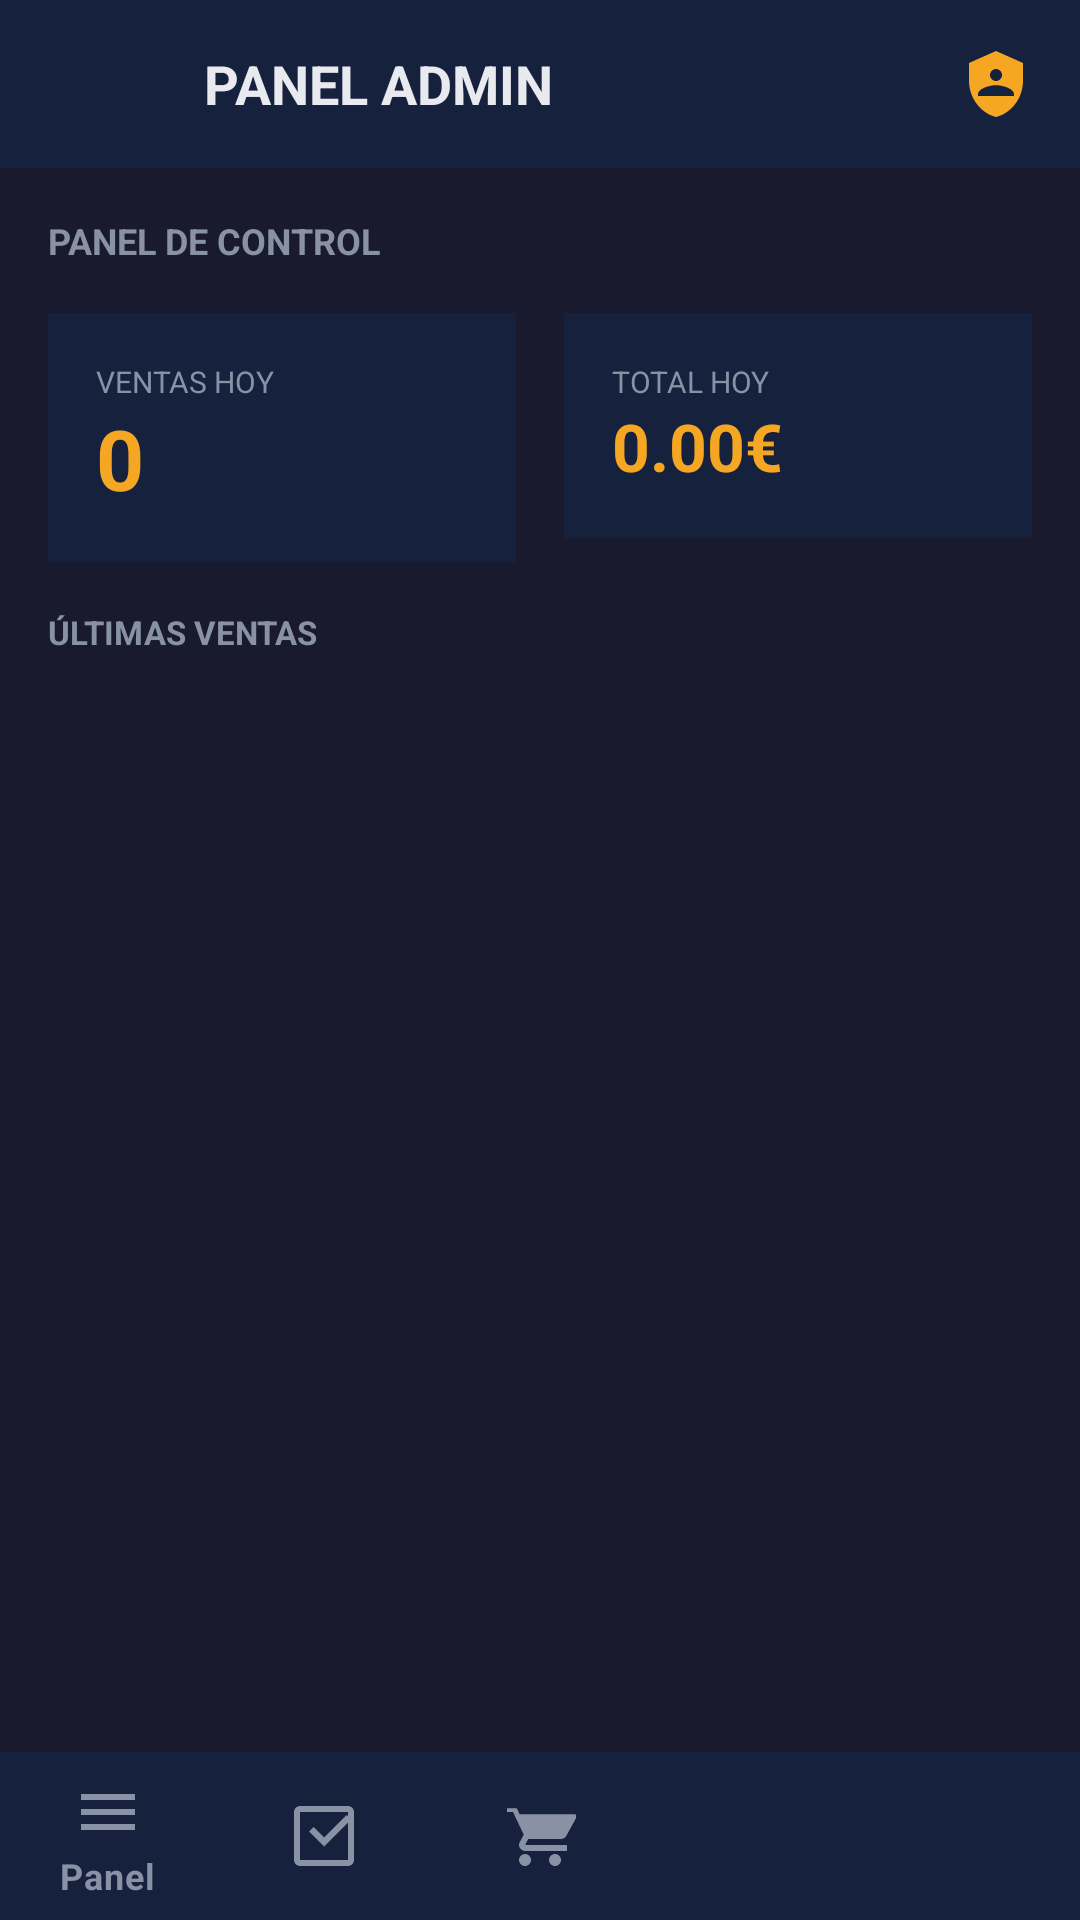

Icon bounding boxes for this 1080 x 1920 phone screenshot, format (x1, y1, x2, y2):
shield: (969, 51, 1023, 117)
